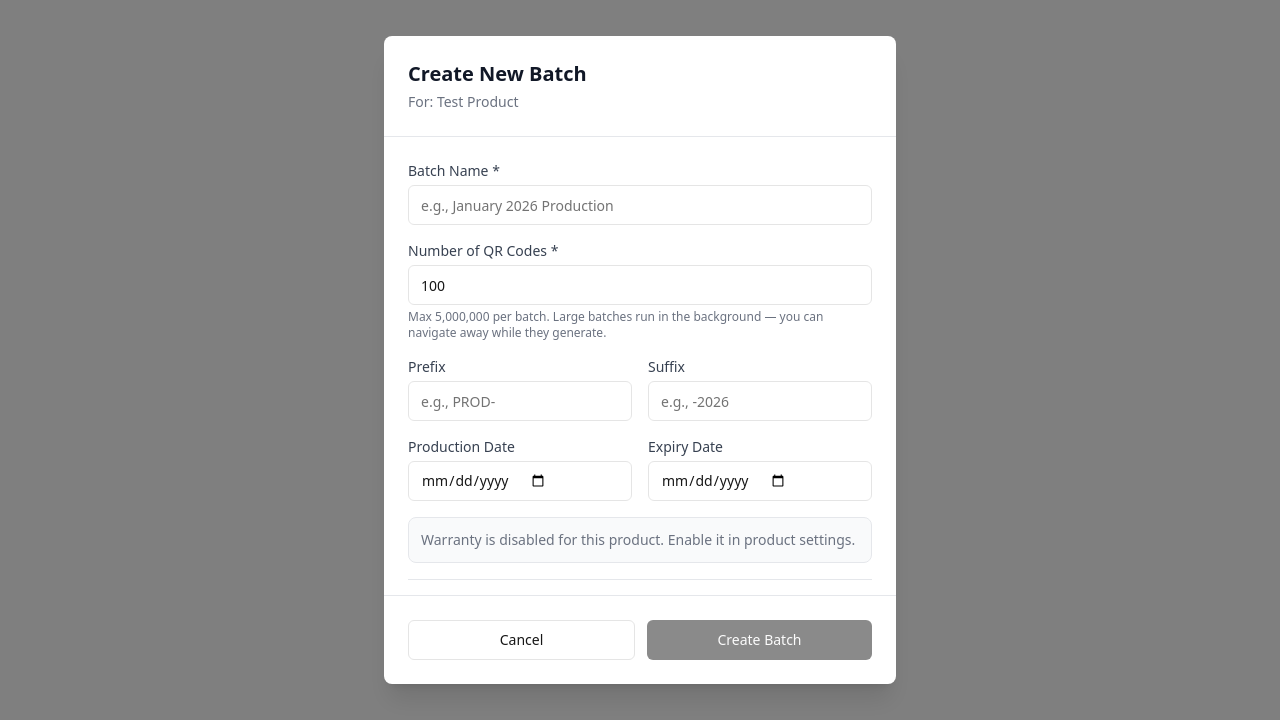
Scenario: CreateBatchModal › shows an error message when creation fails
In the field with placeholder "e.g., January 2026 Production": (640, 205) [408,185,872,225], type "Overflow Batch"
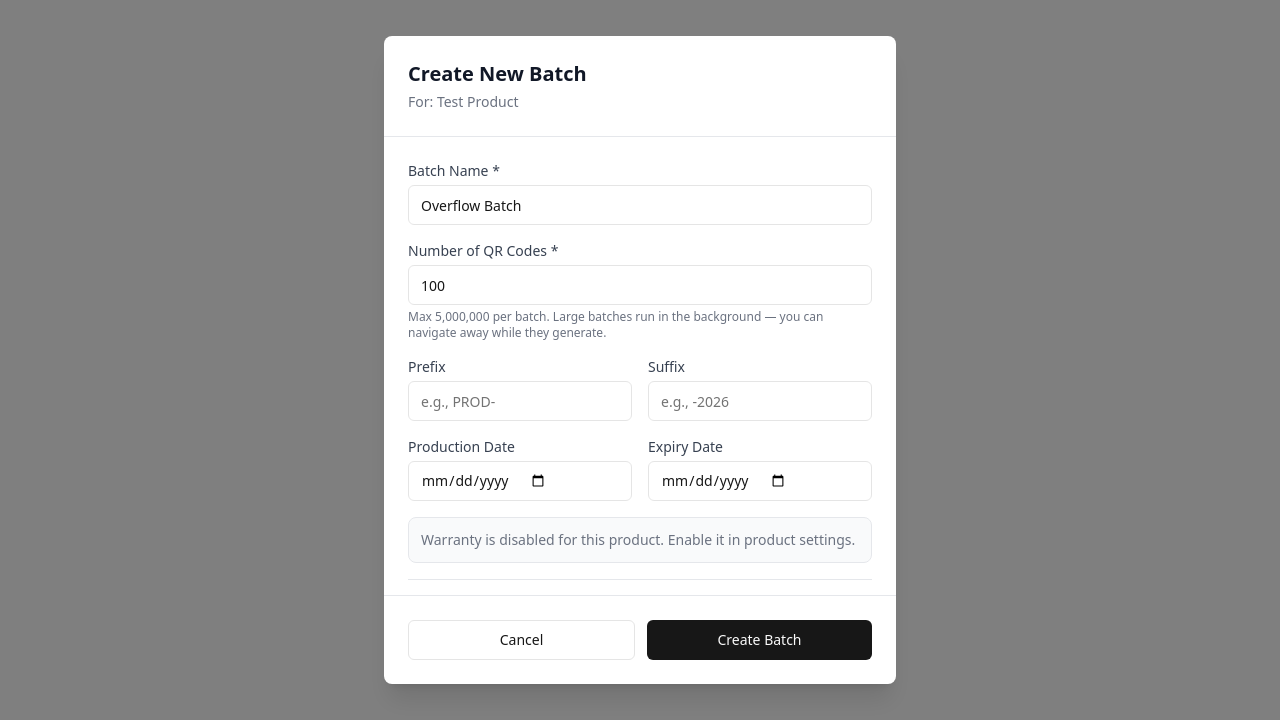
Click the button "Create Batch": (760, 640) [647,620,872,660]
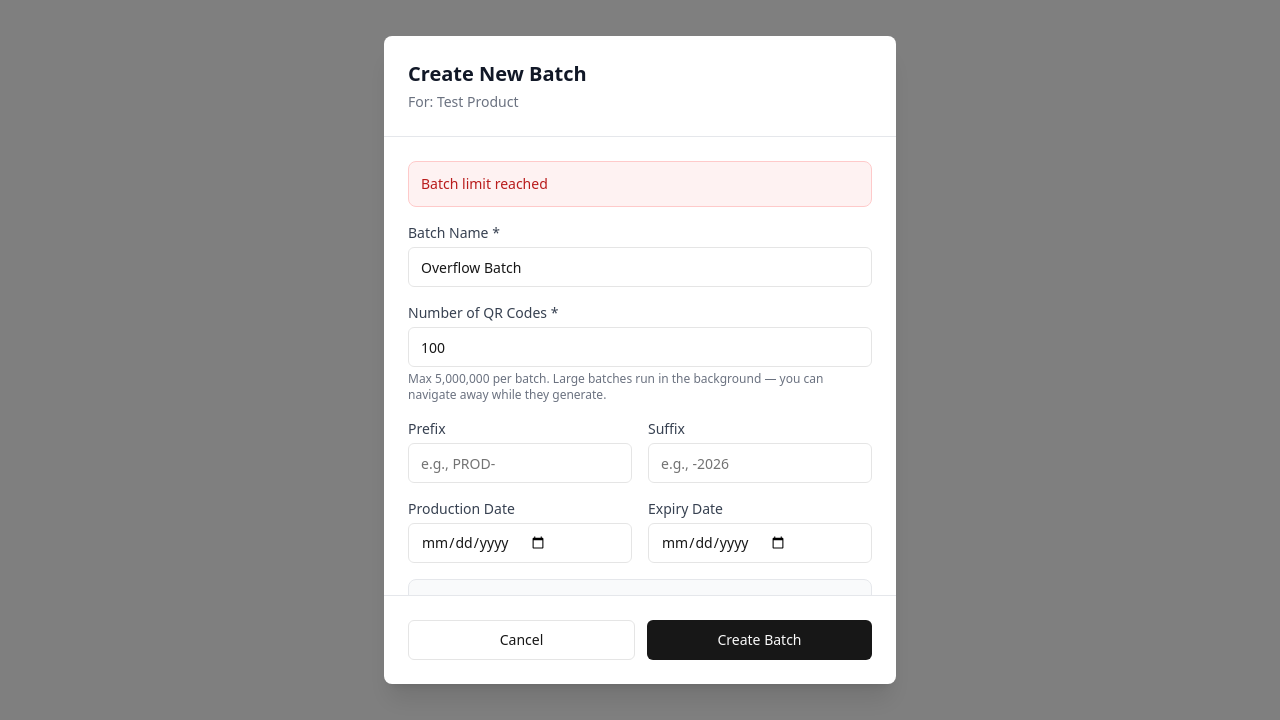
Expected: the text "Batch limit reached" is shown, [421,174,548,193]
